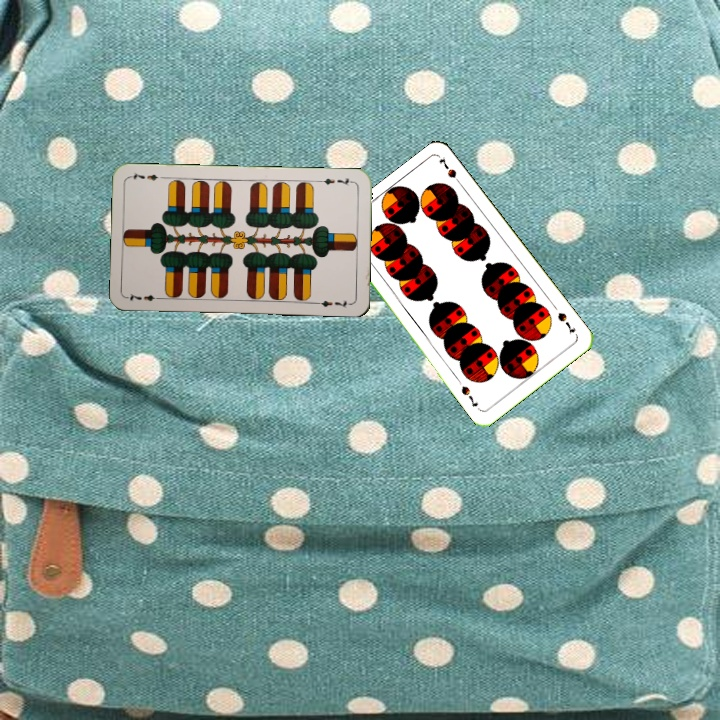E7: (315, 174, 356, 188), (124, 290, 165, 304)
S7: (553, 308, 578, 337)
